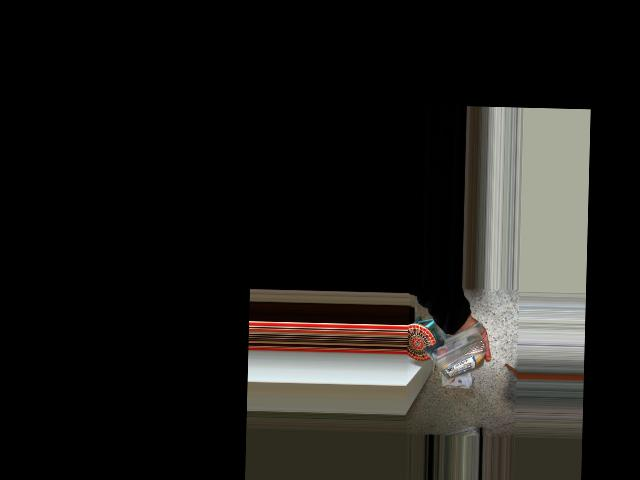cheese: (444, 330, 473, 395)
